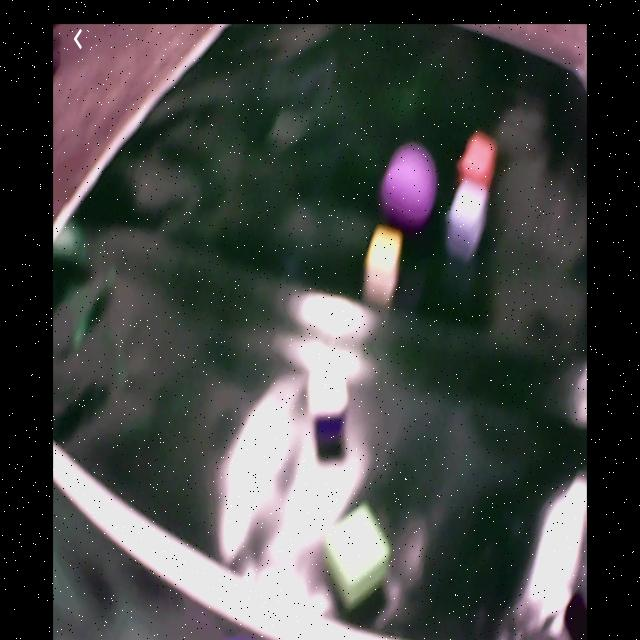ball: (384, 144, 437, 229)
